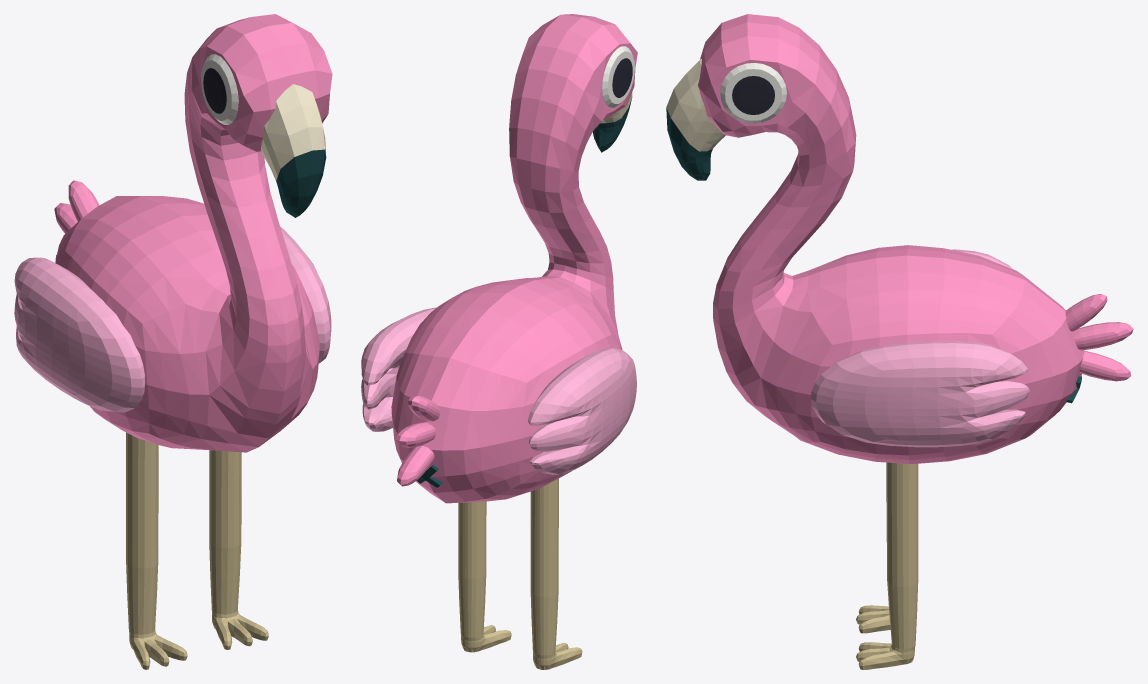
The model's file is Flamingo_LOD0.fbx.
The picture shows the model from 3 angles, left to right: view 1: azimuth 30°, elevation 25°; view 2: azimuth 150°, elevation 25°; view 3: azimuth 270°, elevation 25°; orthographic projection. The views are drawn at different scales.
Parts seen in each view (by area): view 1: Mesh; view 2: Mesh; view 3: Mesh.
Part boxes in pixels (left/top/right/bottom): Mesh: left=14, top=14, right=332, bottom=669; Mesh: left=361, top=14, right=637, bottom=669; Mesh: left=666, top=14, right=1133, bottom=669.
Size of the model in its own units: 132 by 331 by 226.
Materials: 1 (1 with a texture image).
